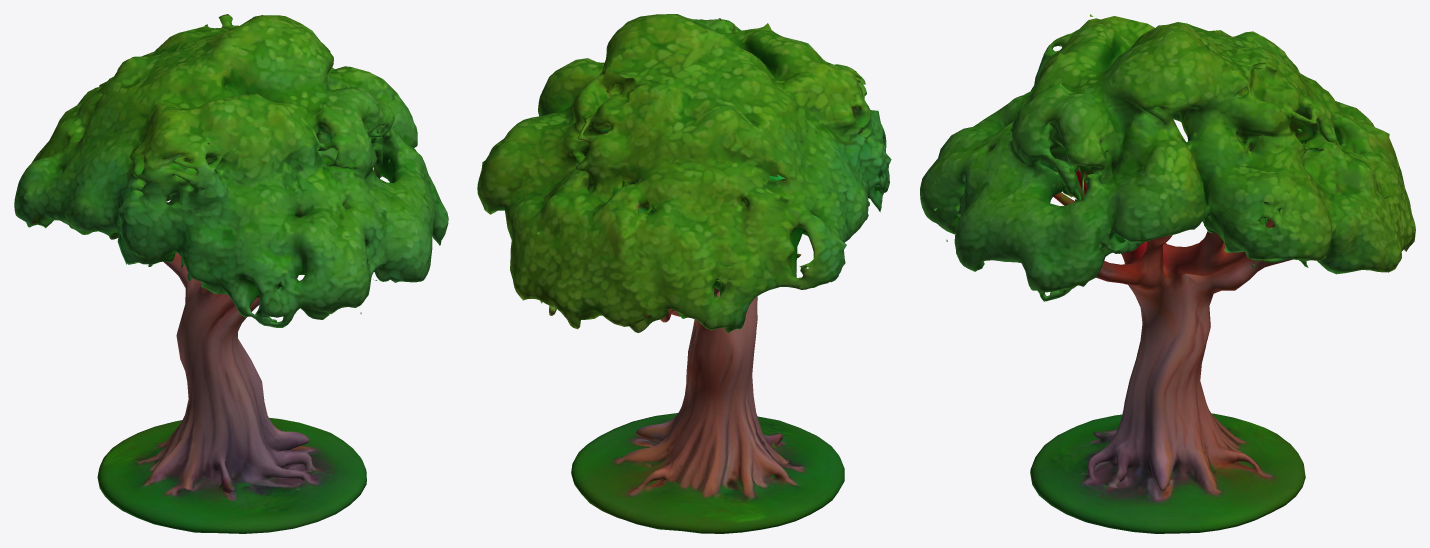
File: Tree 2.fbx
3 views of the same model, side by side, from view 1: azimuth 30°, elevation 25°; view 2: azimuth 150°, elevation 25°; view 3: azimuth 270°, elevation 25° (orthographic). The views are drawn at different scales.
Parts seen in each view (by area): view 1: tripo_node_43e9bb15; view 2: tripo_node_43e9bb15; view 3: tripo_node_43e9bb15.
Part boxes in pixels (left/top/right/bottom): tripo_node_43e9bb15: left=14, top=14, right=448, bottom=533; tripo_node_43e9bb15: left=477, top=14, right=891, bottom=533; tripo_node_43e9bb15: left=920, top=14, right=1415, bottom=533.
Size of the model in its own units: 78.29 by 98.32 by 95.8.
1 material, 1 textured.
